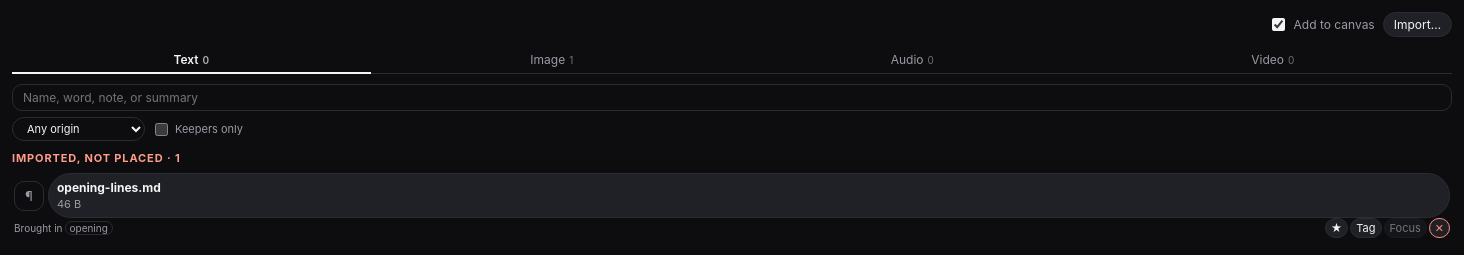
Test case: the tray above a scoped shelf › narrows the tray by the words a reader asks with, like the list
Step 1. Type "nothing matches this" into the search field with test id "shelf-asked" → (732, 98), box [12, 84, 1452, 111]
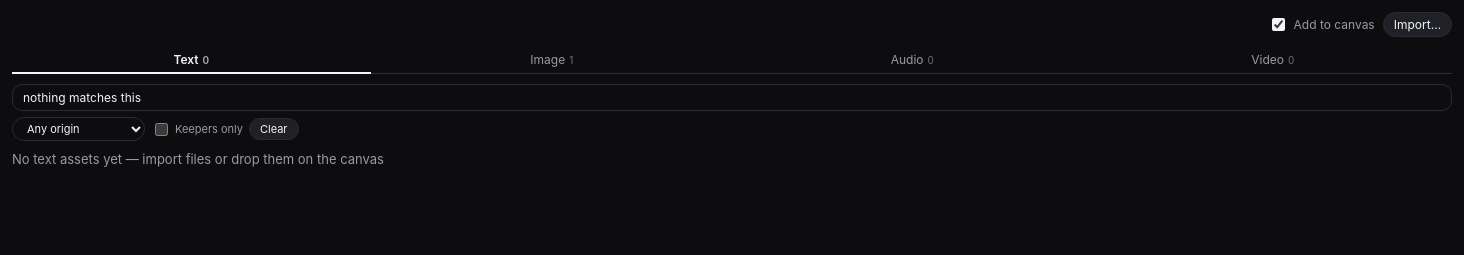
Expected: the element with test id "shelf-tray" is gone
